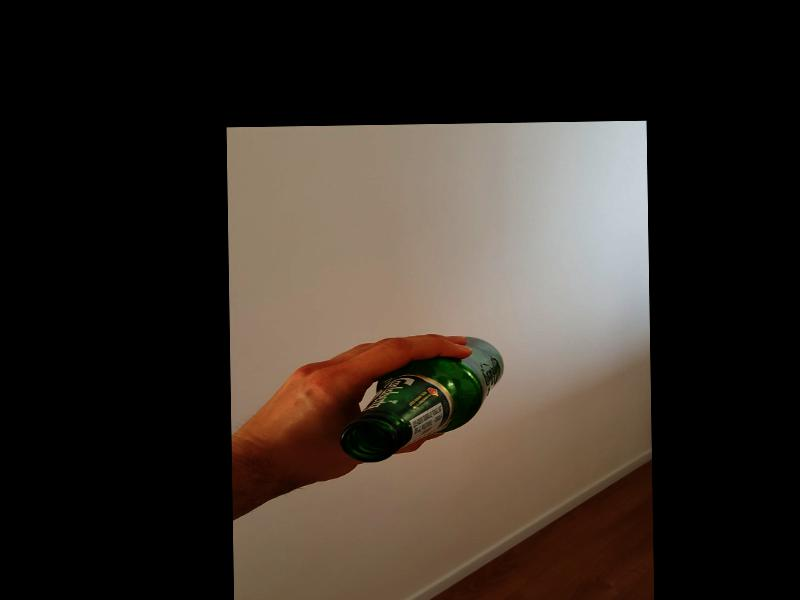Beer: (337, 337, 505, 465)
